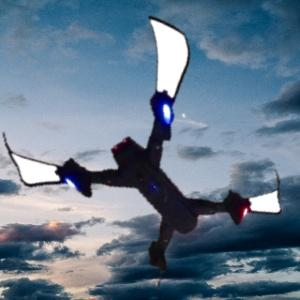drone: (14, 42, 261, 289)
